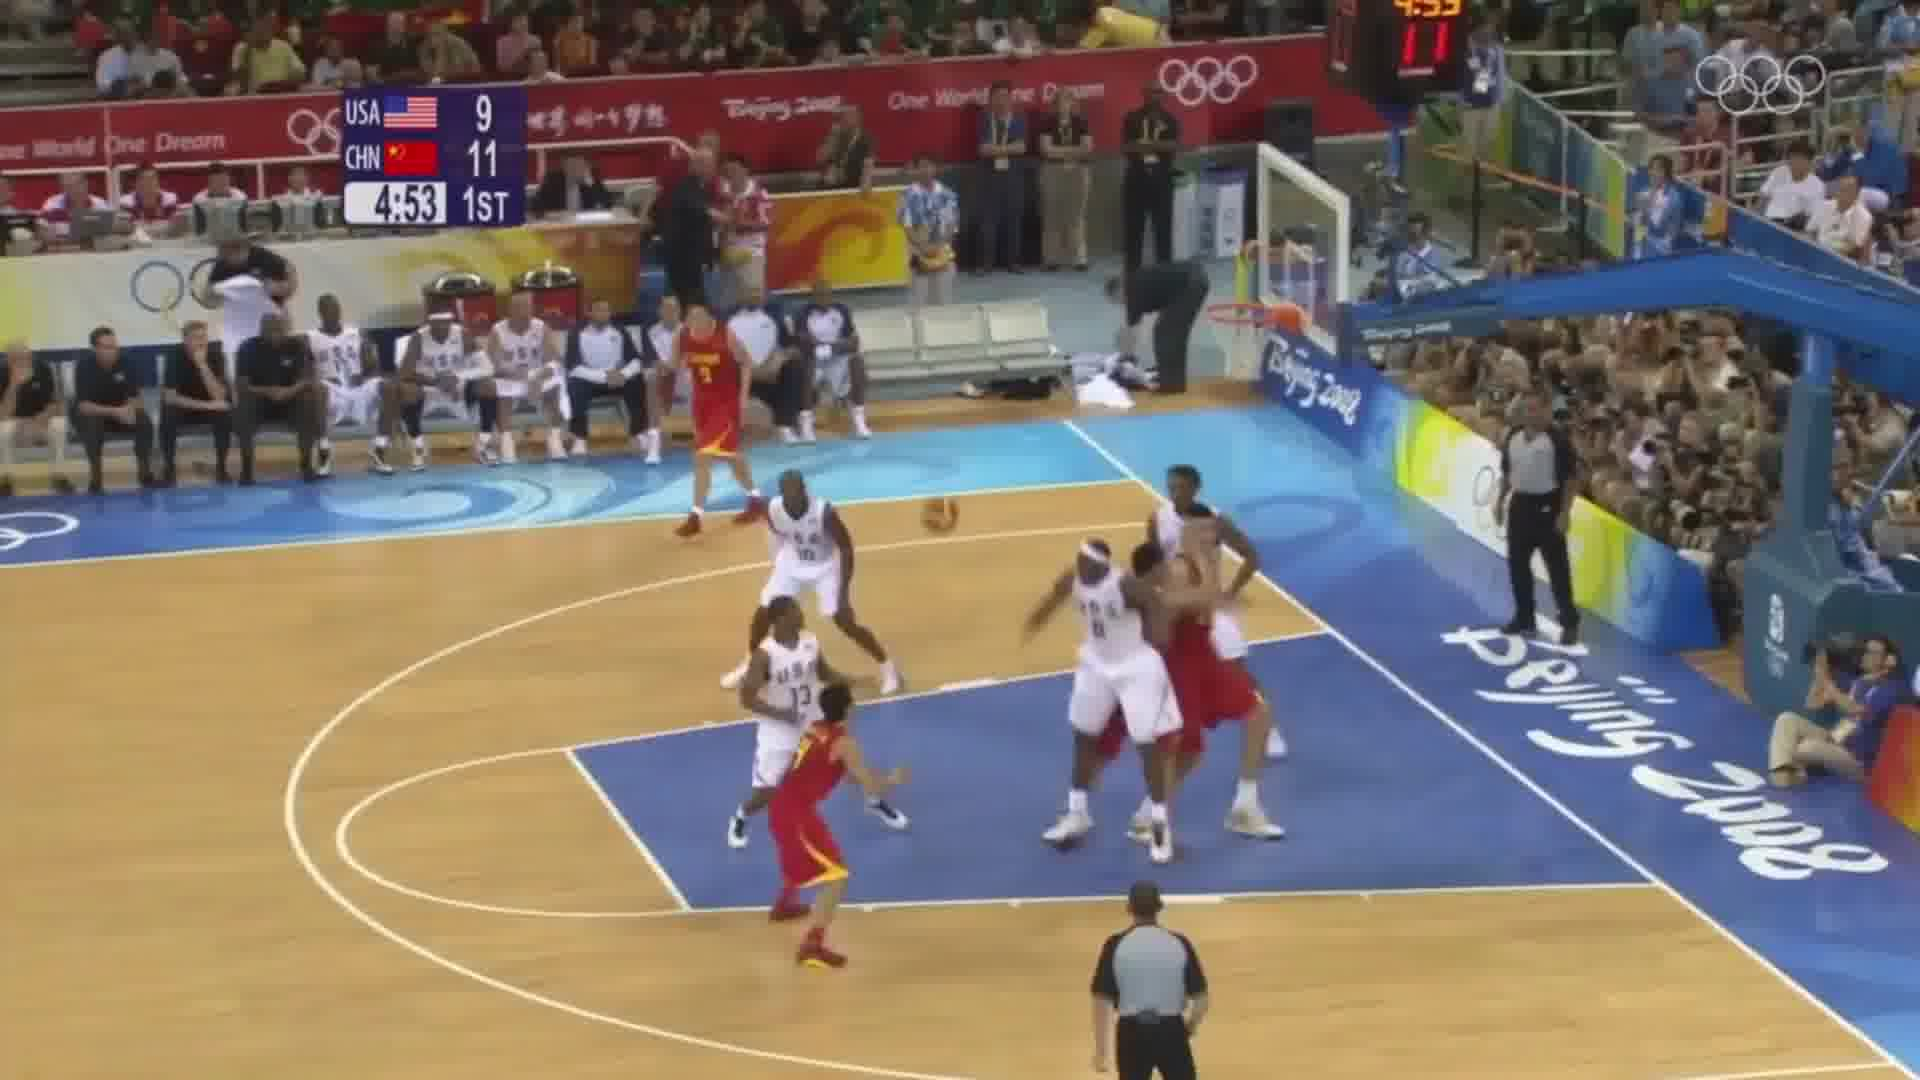ball: (909, 491, 964, 541)
net: (1205, 301, 1278, 386)
